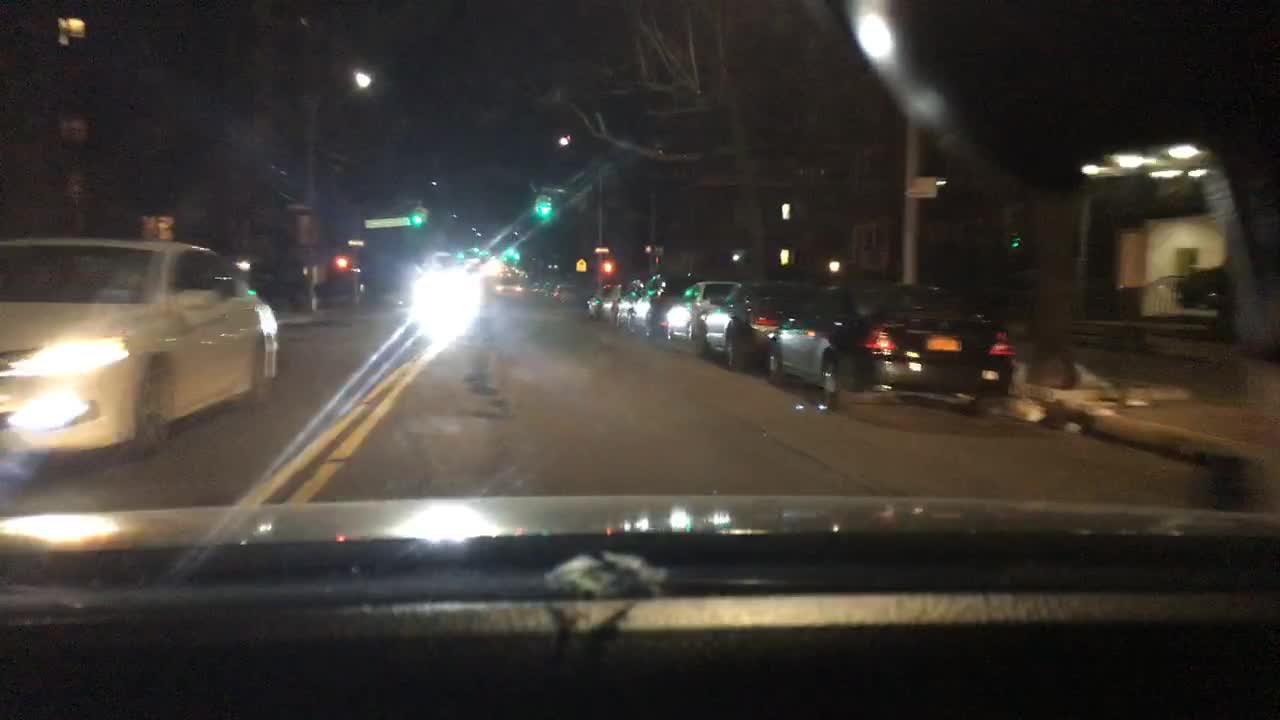car: (0, 234, 277, 472), (767, 277, 1016, 414), (699, 284, 837, 368), (659, 277, 738, 347), (619, 273, 698, 336), (1114, 272, 1199, 316), (1176, 263, 1230, 311), (598, 281, 638, 319), (418, 277, 466, 304), (583, 281, 610, 319), (549, 284, 586, 305), (495, 273, 527, 294), (538, 279, 558, 300), (529, 279, 543, 297), (426, 267, 450, 276), (460, 262, 477, 273), (487, 261, 498, 273)
person: (1022, 248, 1086, 390)
traffic light: (411, 201, 423, 225), (334, 254, 351, 270), (601, 259, 616, 273), (504, 238, 515, 257), (455, 242, 464, 261), (478, 244, 484, 257)
traffic sign: (361, 216, 409, 227), (573, 257, 589, 273), (346, 236, 364, 247), (595, 245, 609, 257)
